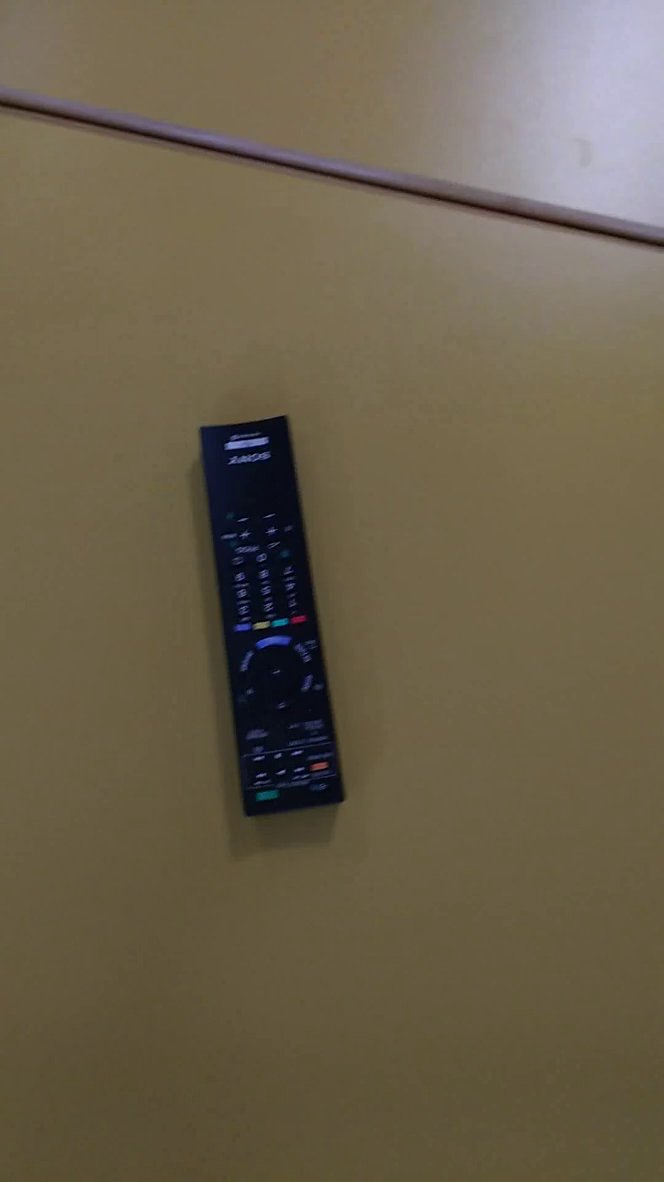remote: (182, 398, 369, 847)
